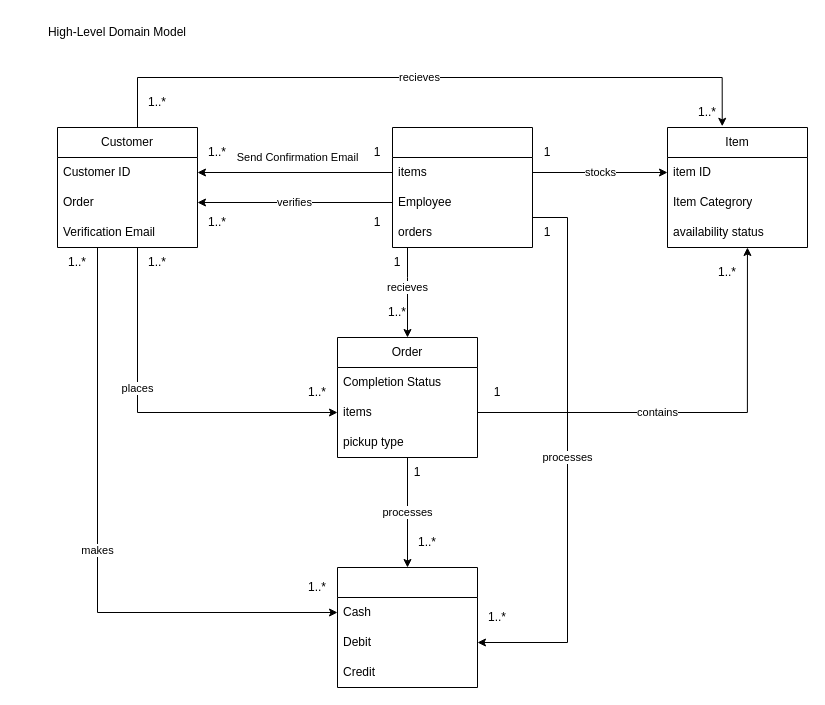
The diagram is 825 pixels wide and 705 high, and some of its shapes have lost their labels. The box of each missing label's shape, as (x1, y1, x2, y2) in pixels:
Payment: (336, 566, 478, 688)
Store: (392, 126, 532, 248)
